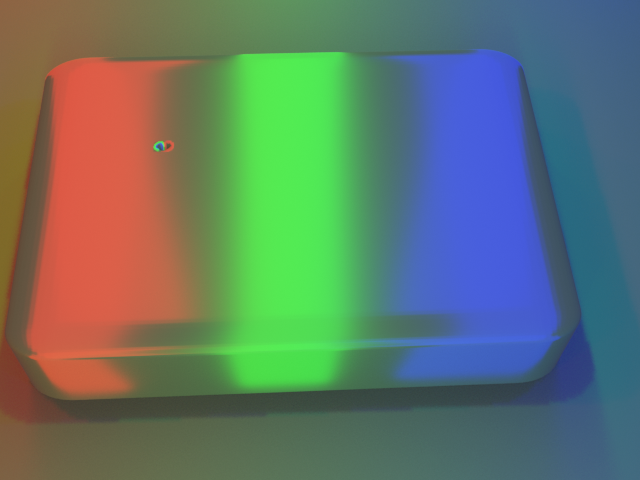dent: (125, 120, 167, 165)
